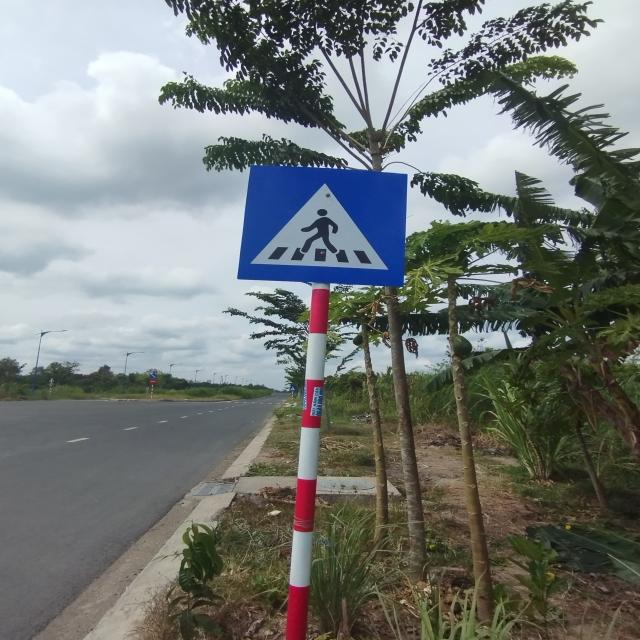Giao_Nhau_Duong_Uu_Tien: (238, 166, 407, 286)
